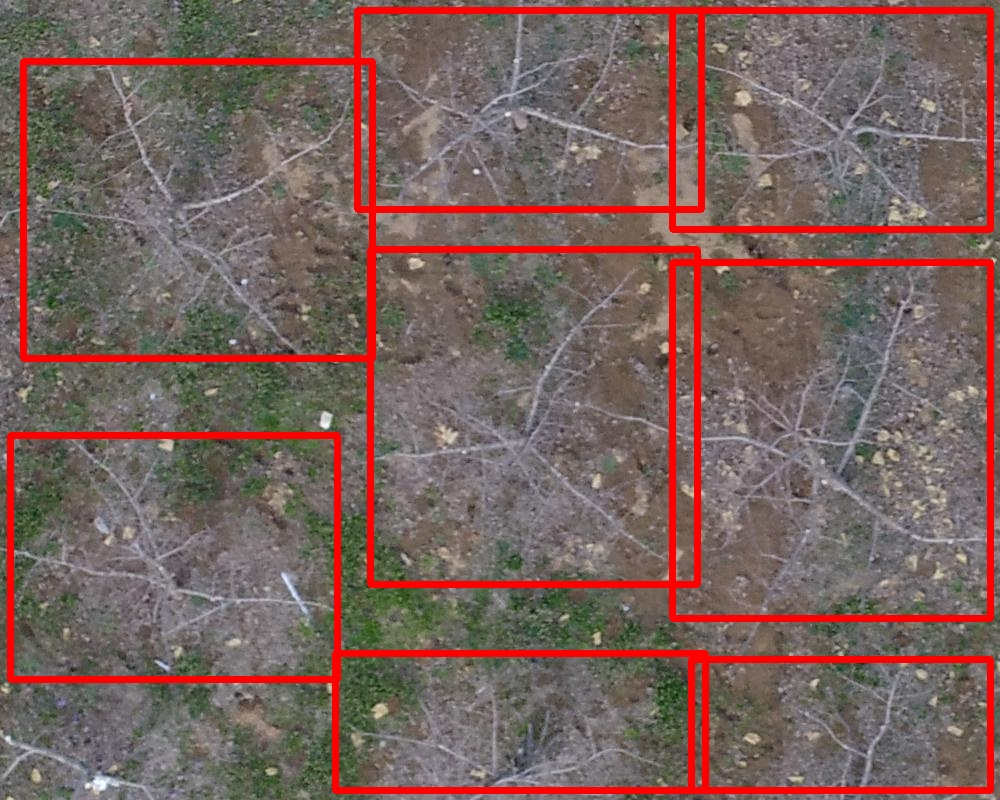apple: (672, 262, 990, 618), (370, 249, 697, 584), (23, 61, 372, 358), (10, 435, 337, 679), (672, 10, 990, 229), (357, 10, 701, 209), (335, 653, 705, 790), (691, 659, 990, 790)
